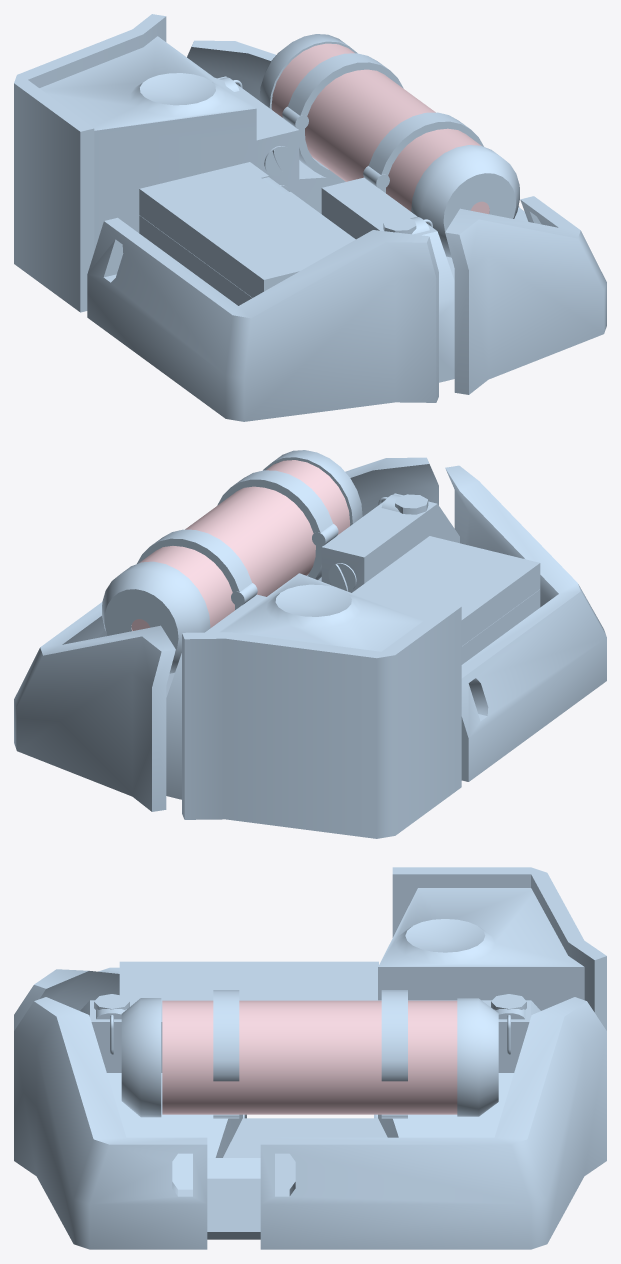
The model's file is healthKit.fbx.
3 renders of one model, top to bottom at view 1: azimuth 30°, elevation 25°; view 2: azimuth 150°, elevation 25°; view 3: azimuth 270°, elevation 25°, orthographic. The views are drawn at different scales.
Parts seen in each view (by area): view 1: healthkit; view 2: healthkit; view 3: healthkit.
Boxes of the visible parts, left/top/right/bottom form: healthkit: left=14, top=14, right=606, bottom=421; healthkit: left=14, top=450, right=606, bottom=838; healthkit: left=14, top=867, right=606, bottom=1249.
Size of the model in its own units: 1408 by 648 by 1783.
